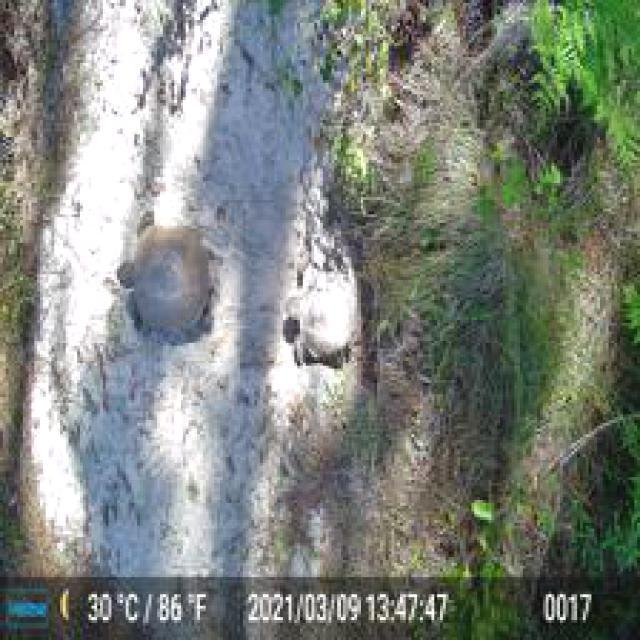tortoise: (112, 211, 215, 345), (277, 269, 357, 369)
